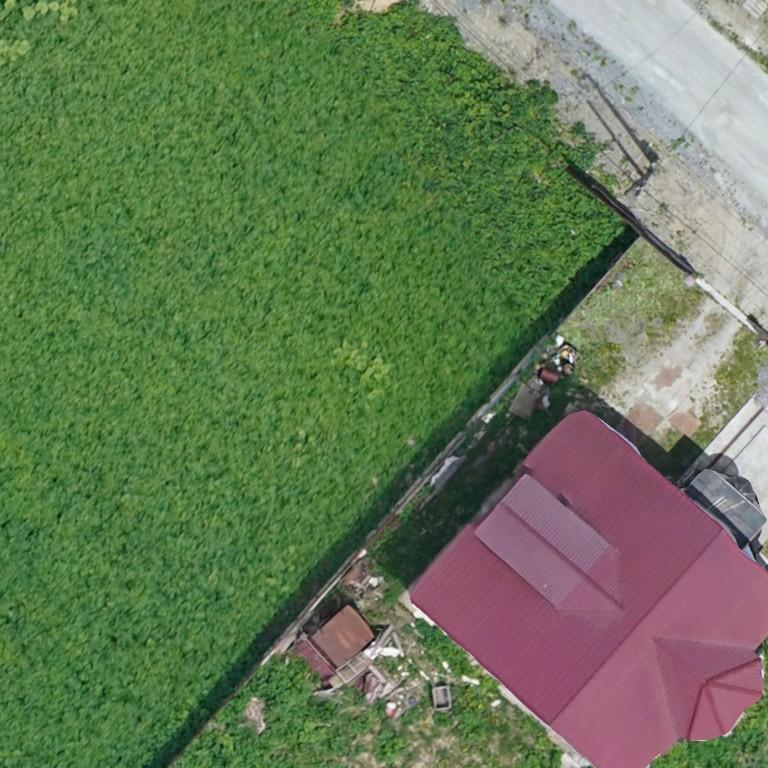hogweed: (0, 0, 621, 767), (172, 654, 370, 767), (416, 619, 469, 675), (375, 724, 403, 760), (457, 714, 485, 743)
